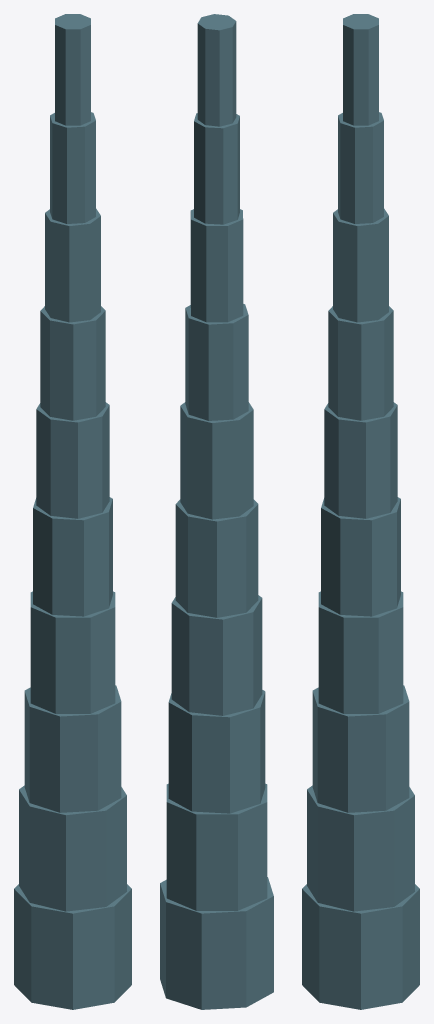
Rendered from source.glb.
3 views of the same model, side by side, from view 1: azimuth 90°, elevation 25°; view 2: azimuth 210°, elevation 25°; view 3: azimuth 270°, elevation 25° (orthographic).
Visible parts, largest first — view 1: worldgen; view 2: worldgen; view 3: worldgen.
Boxes of the visible parts, <box> form: worldgen: <box>14,14,131,1009</box>; worldgen: <box>160,14,273,1009</box>; worldgen: <box>302,14,419,1009</box>.
Size of the model in its own units: 70 by 632 by 70.
